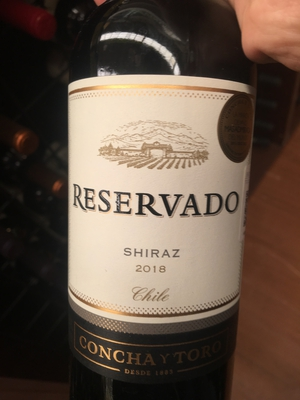reservado shiraz: (64, 6, 250, 400)
